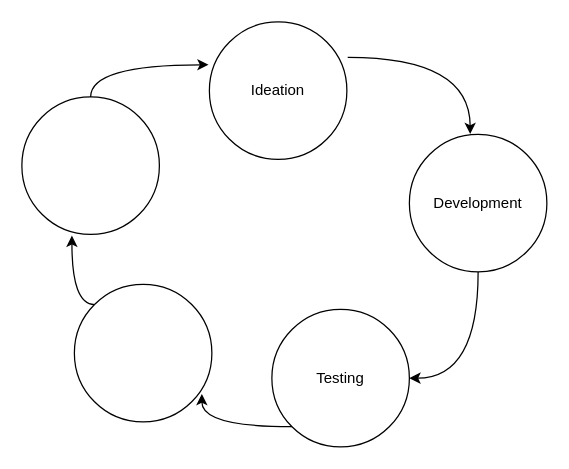
Some shapes in this 569 by 469 pixel diagram are drawn without their labels. The shapes that lost their labels are listed below. From the top down, each one's centre as x and y in pixels, then its label:
At (x=90, y=165): "Operations".
At (x=142, y=352): "Deployment".
